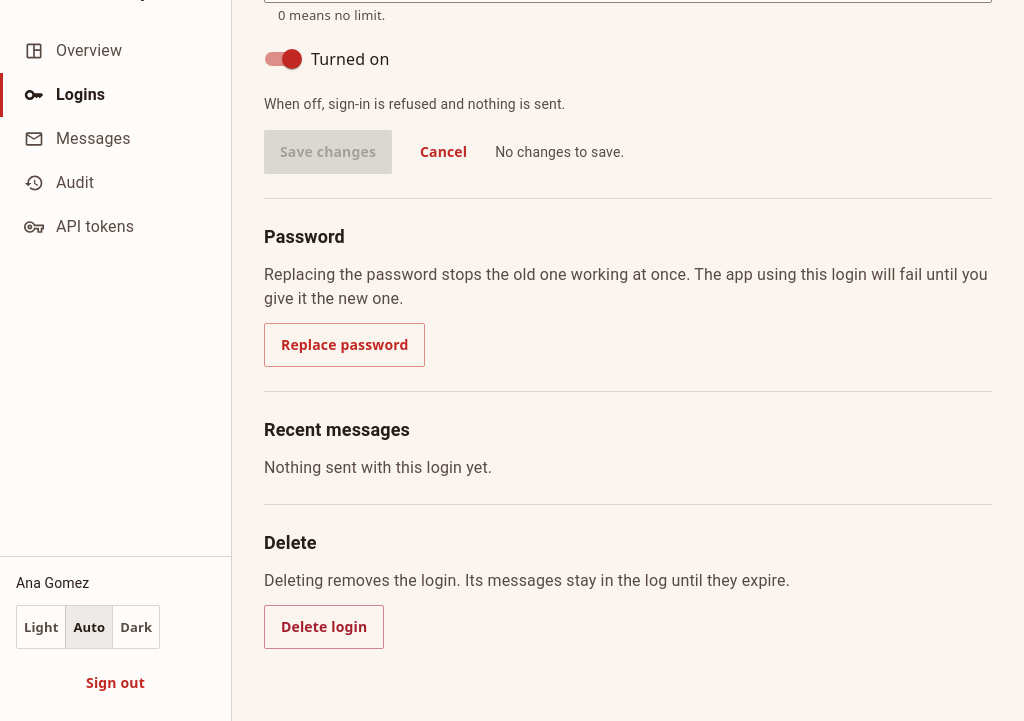
LoginDetail › asks before rotating, then reveals the new password
The image size is (1024, 721).
(page scrolled)
Step 1. Click the button "Replace password" → (345, 345), box [264, 323, 425, 367]
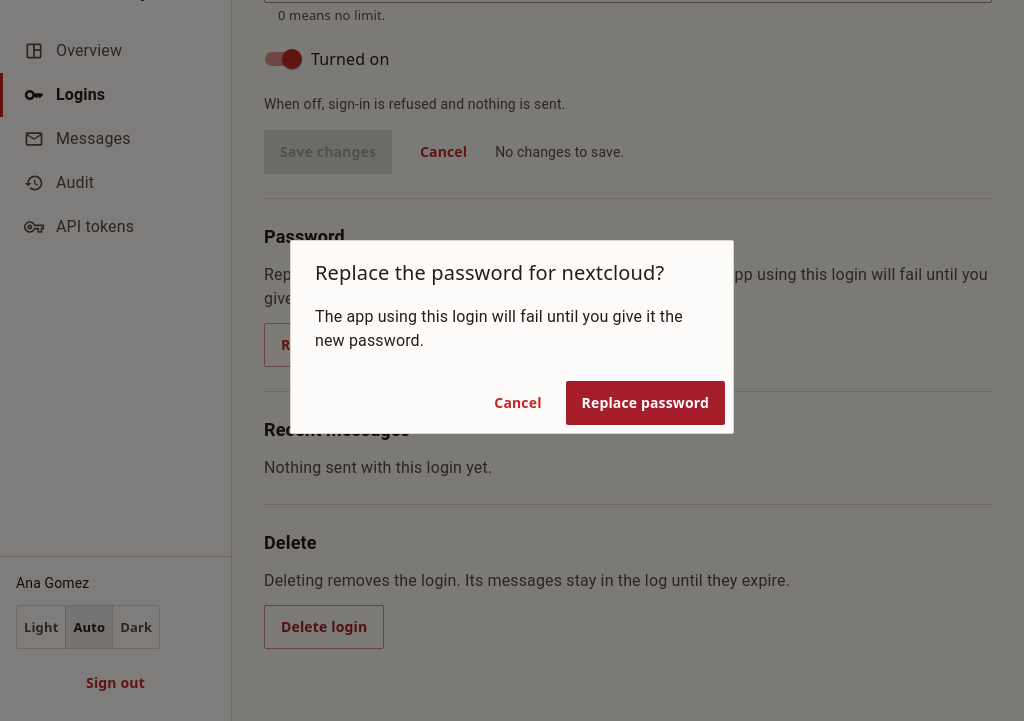
Expected: the heading "Replace the password for nextcloud?" is shown, [315, 259, 664, 286]
Step 2. Click the button "Replace password" → (645, 403), box [566, 381, 725, 425]
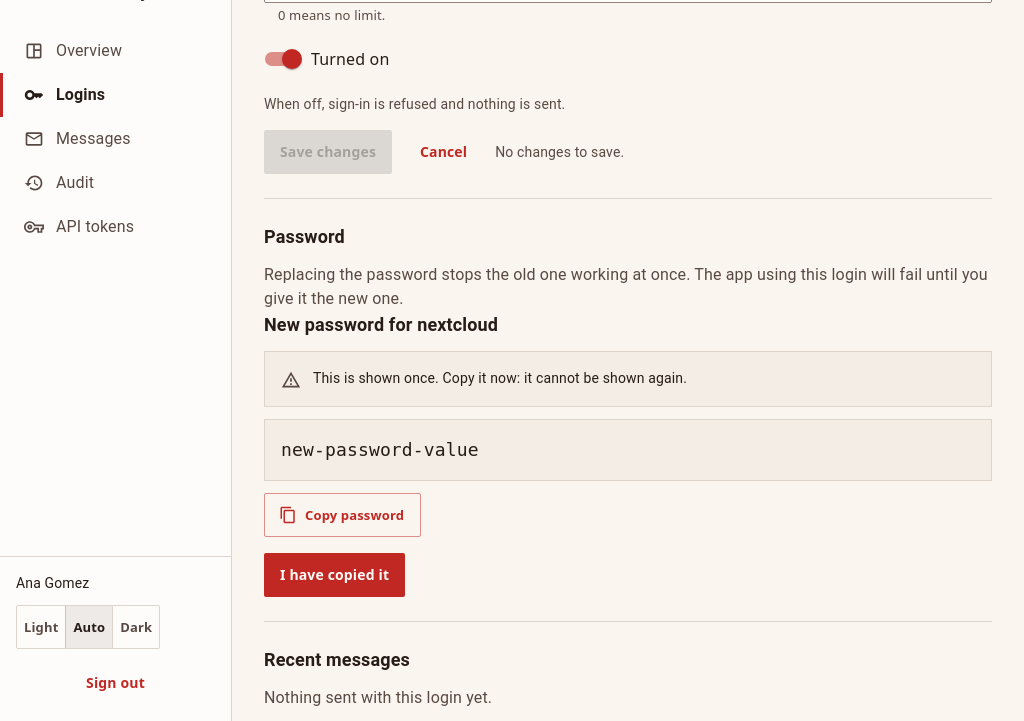
Expected: the text "new-password-value" is shown, [264, 419, 992, 481]
